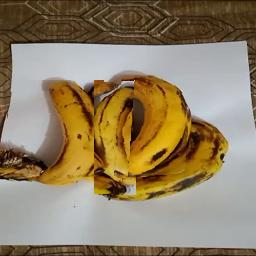Banana Semifresh: (5, 81, 104, 191), (115, 75, 193, 179), (94, 83, 136, 196)
